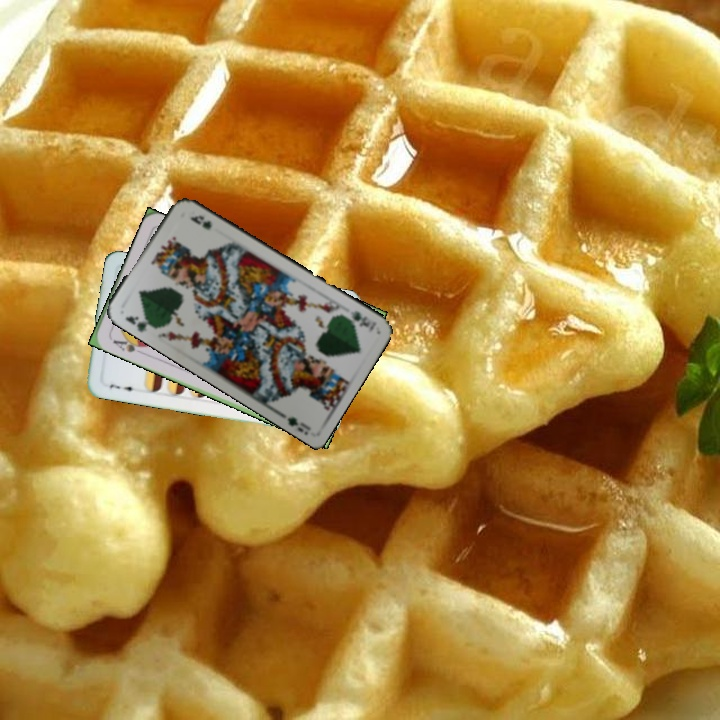E7: (105, 380, 139, 394)
GK: (339, 306, 379, 335), (121, 312, 156, 335)
SA: (107, 332, 148, 355)
